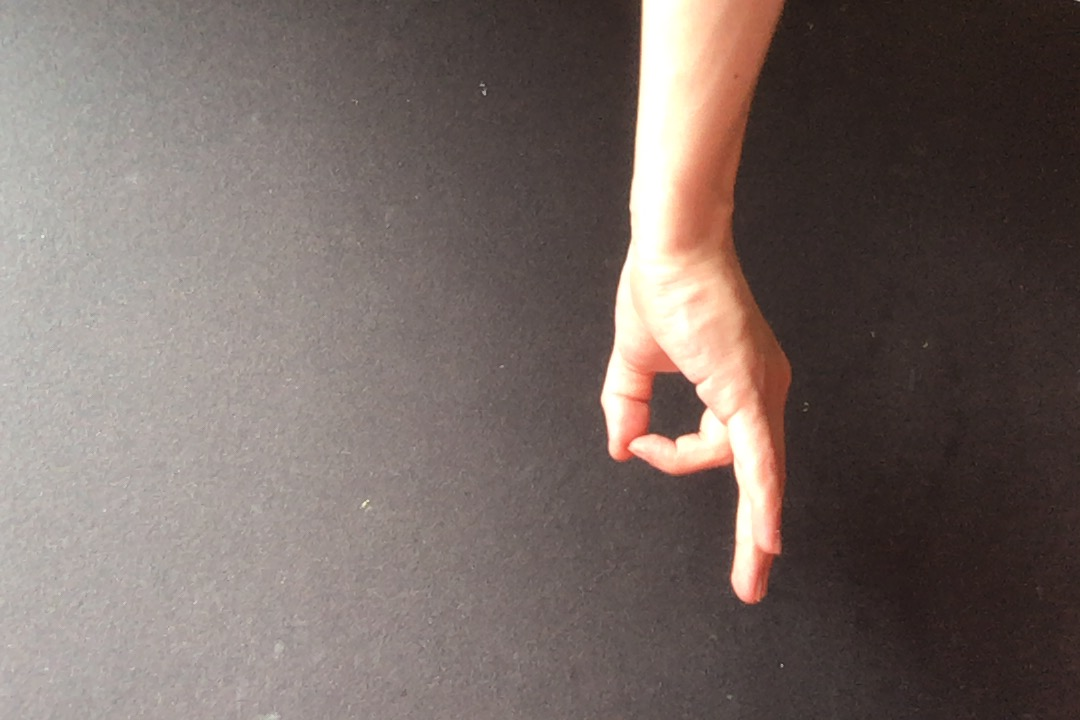oksign: (586, 226, 796, 610)
